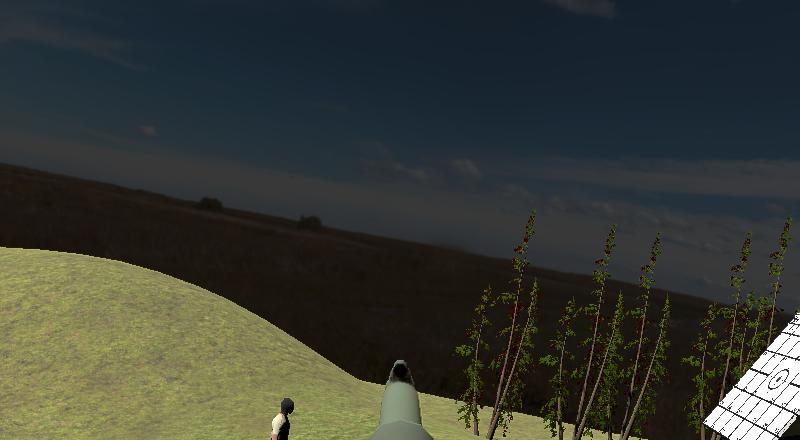Human: (264, 393, 297, 439)
